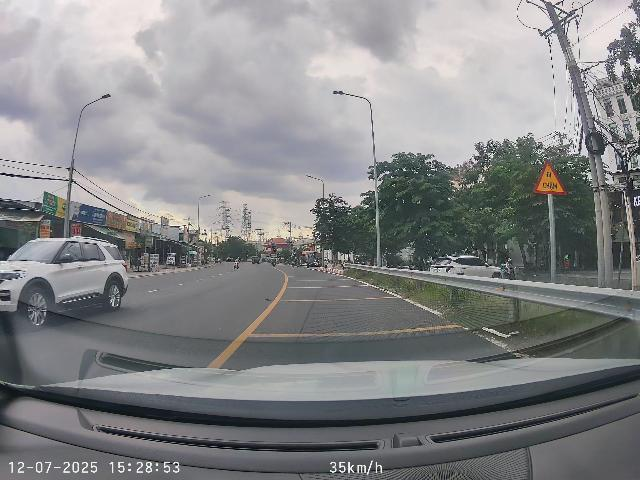245-di-cham: (534, 159, 567, 196)
